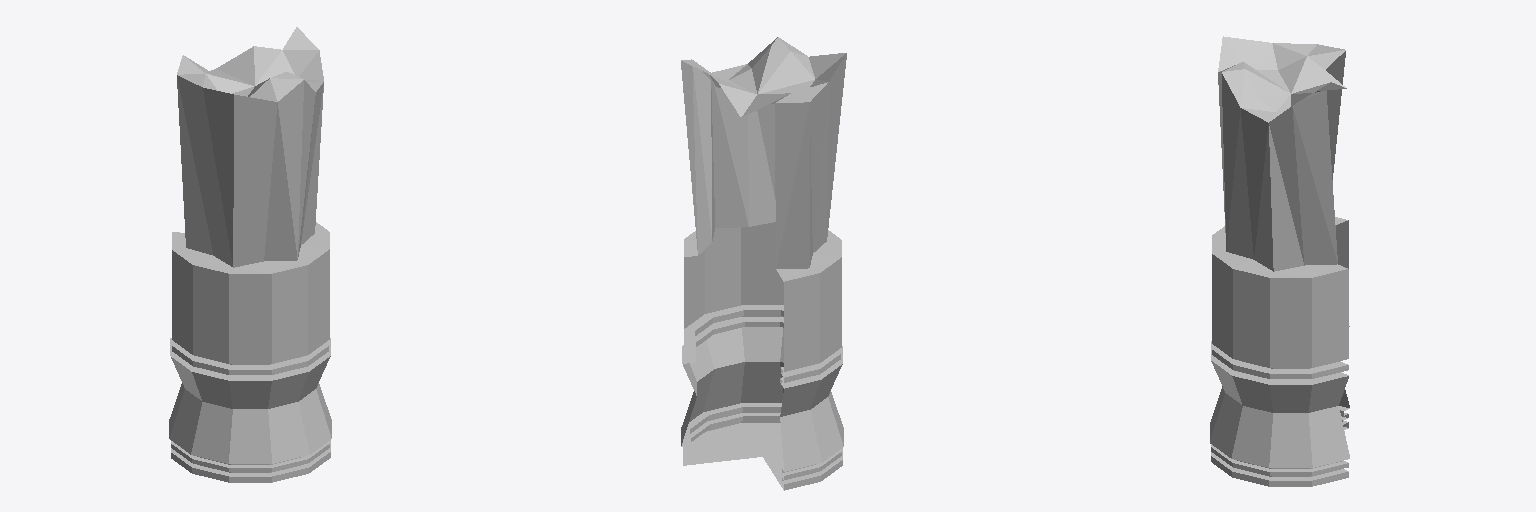
Rendered from pilierCasse6.obj.
3 views of the same model, side by side, from view 1: azimuth 30°, elevation 25°; view 2: azimuth 150°, elevation 25°; view 3: azimuth 270°, elevation 25° (orthographic).
Bounding box in the file's own units: 0.2851 × 0.7612 × 0.2469.